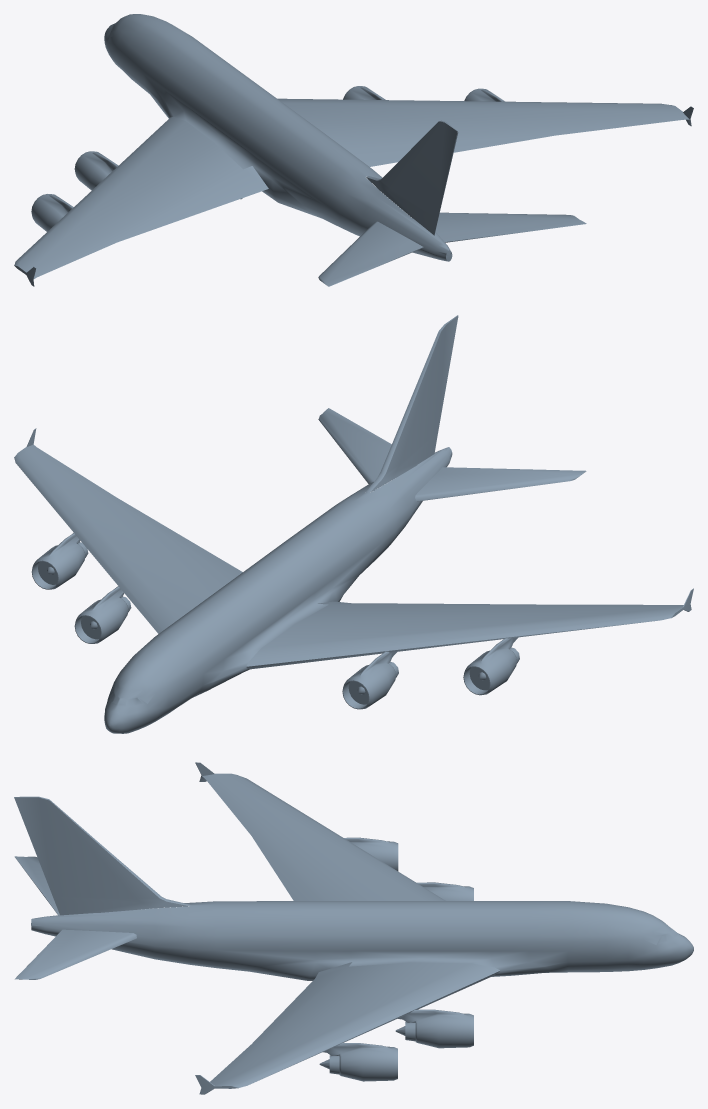
3 renders of one model, top to bottom at view 1: azimuth 30°, elevation 25°; view 2: azimuth 150°, elevation 25°; view 3: azimuth 270°, elevation 25°, orthographic. The views are drawn at different scales.
Visible parts, largest first — view 1: body; view 2: body; view 3: body.
Boxes of the visible parts, x1,y1,x2,y2 form: body: (14, 14, 693, 286); body: (14, 315, 693, 733); body: (14, 762, 693, 1094).
Bounding box in the file's own units: 191 × 53.04 × 176.
